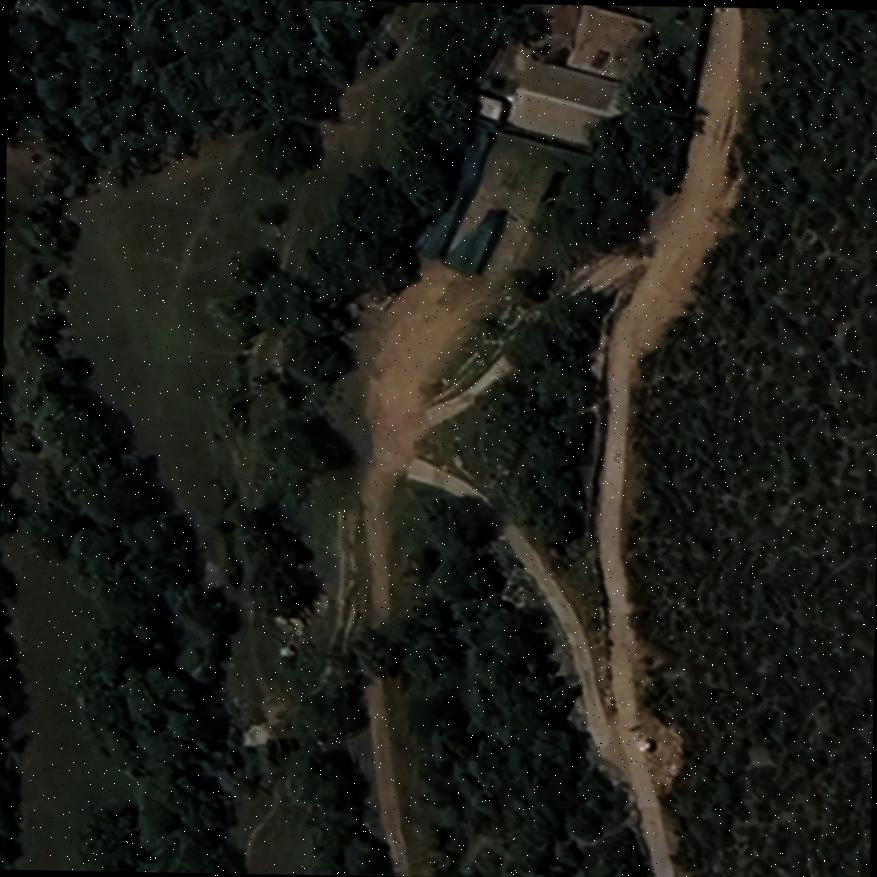Solarpanel: (589, 47, 609, 69)
